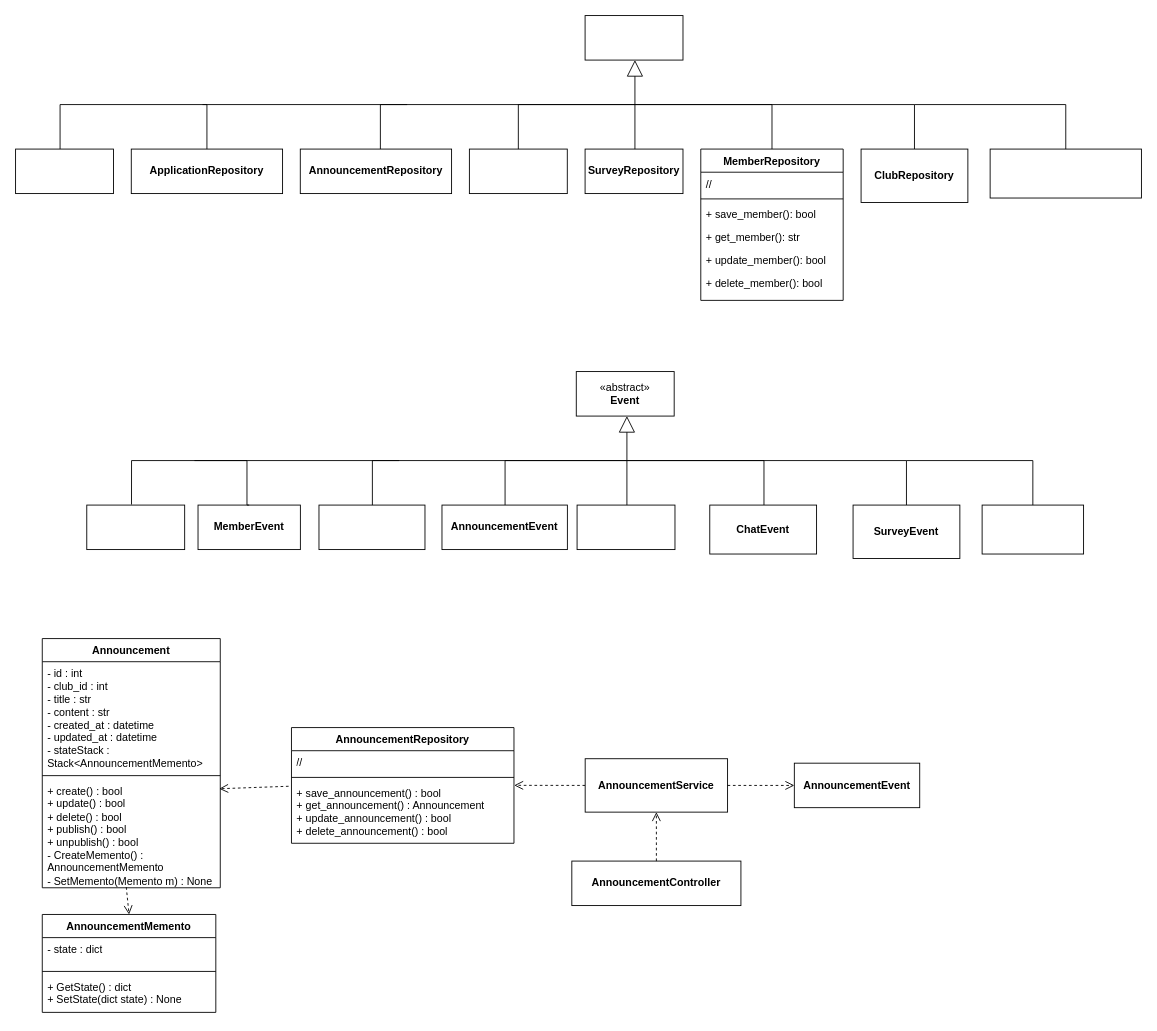
Some shapes in this 1157 by 1031 pixel diagram are drawn without their labels. The centre of each missing label's shape, as x and y in pixels:
"ApplicationEvent" belongs at (x=371, y=527).
"BoardEvent" belongs at (x=1032, y=529).
"BoardRepository" belongs at (x=64, y=171).
"ChatRepository" belongs at (x=517, y=171).
"ClubEvent" belongs at (x=135, y=527).
"EventEvent" belongs at (x=625, y=527).
"EventRepository" belongs at (x=1065, y=173).
"«abstract» Repository" belongs at (x=633, y=37).
